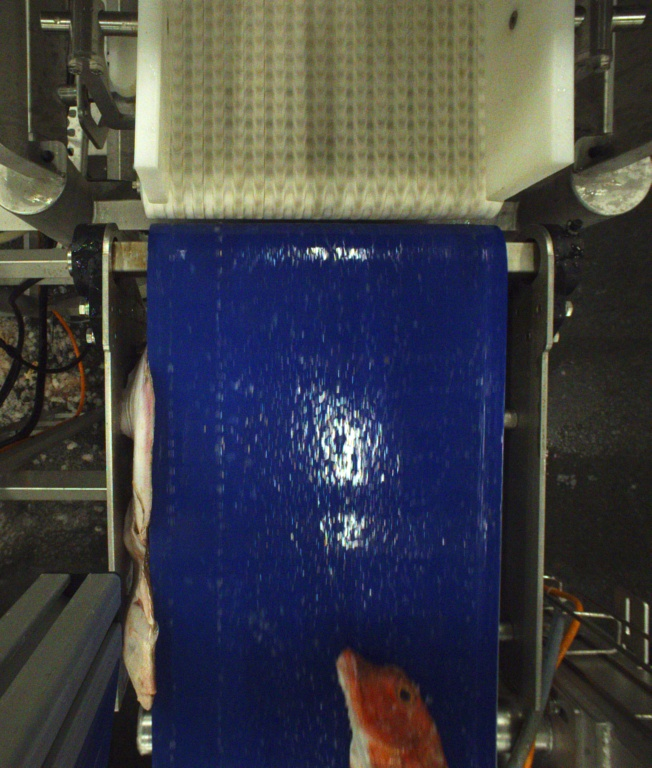GUU: (327, 644, 451, 768)
